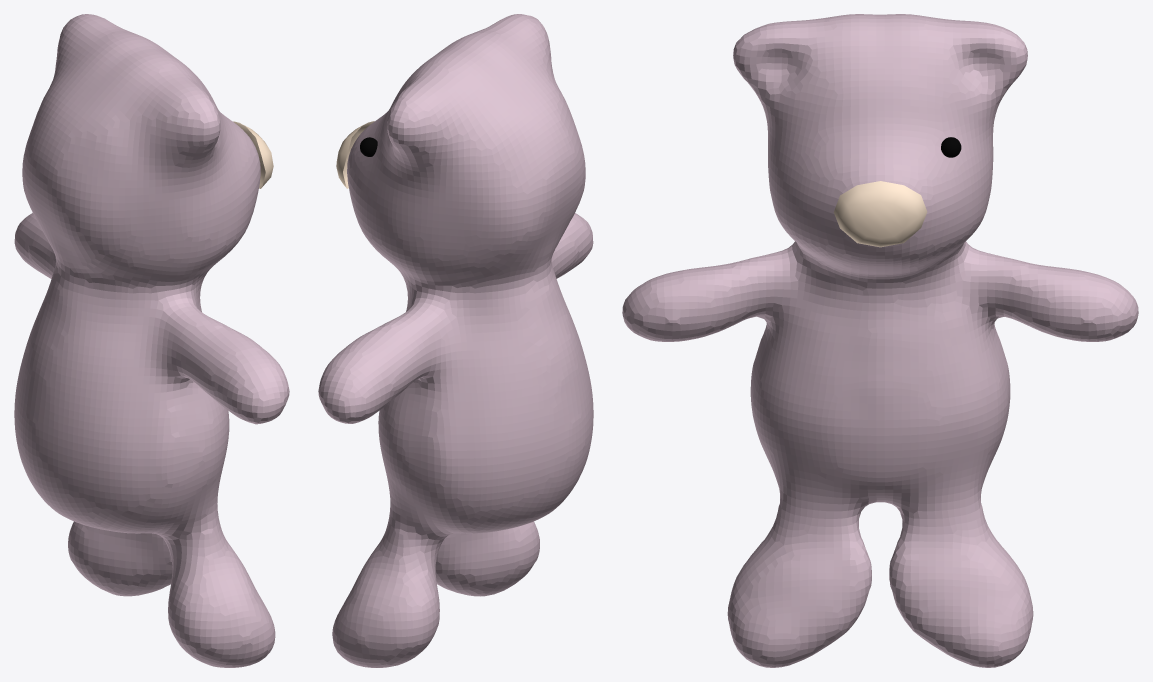
Rendered from ARtraial.glb.
3 renders of one model, left to right at view 1: azimuth 30°, elevation 25°; view 2: azimuth 150°, elevation 25°; view 3: azimuth 270°, elevation 25°, orthographic. The views are drawn at different scales.
Parts seen in each view (by area): view 1: 球, 円; view 2: 球, 円; view 3: 球, 円.
Boxes of the visible parts, x1,y1,x2,y2 form: 球: (14, 14, 289, 667); 円: (233, 121, 273, 188); 球: (318, 14, 593, 667); 円: (336, 121, 374, 188); 球: (622, 14, 1138, 667); 円: (833, 181, 927, 247).
Bounding box in the file's own units: 0.6763 × 1.66 × 1.25.
3 materials, 1 textured.
